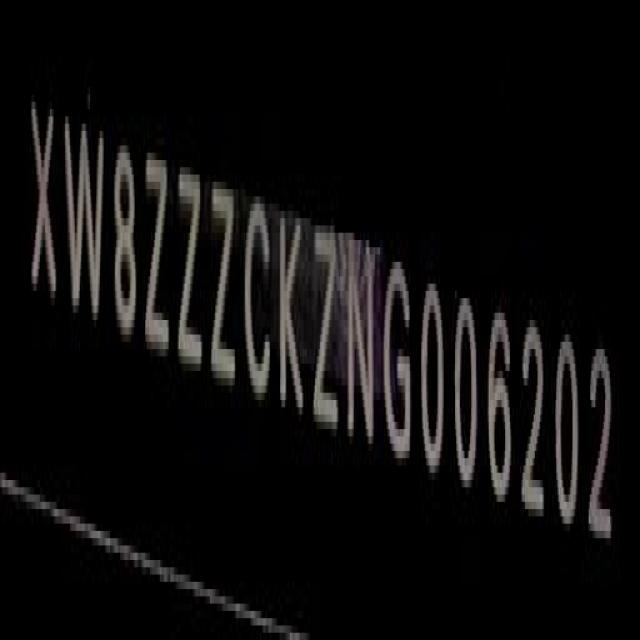0: (553, 328, 579, 540), (420, 267, 445, 483), (454, 289, 480, 496)
2: (590, 336, 616, 550), (522, 318, 548, 528)
6: (487, 300, 514, 512)
8: (115, 134, 138, 348)
C: (245, 189, 273, 405)
G: (382, 249, 410, 468)
K: (278, 202, 305, 420)
N: (346, 224, 373, 455)
W: (64, 103, 106, 332)
X: (27, 90, 58, 323)
Z: (313, 213, 340, 445), (211, 170, 237, 390), (178, 156, 202, 381), (144, 147, 168, 368)
